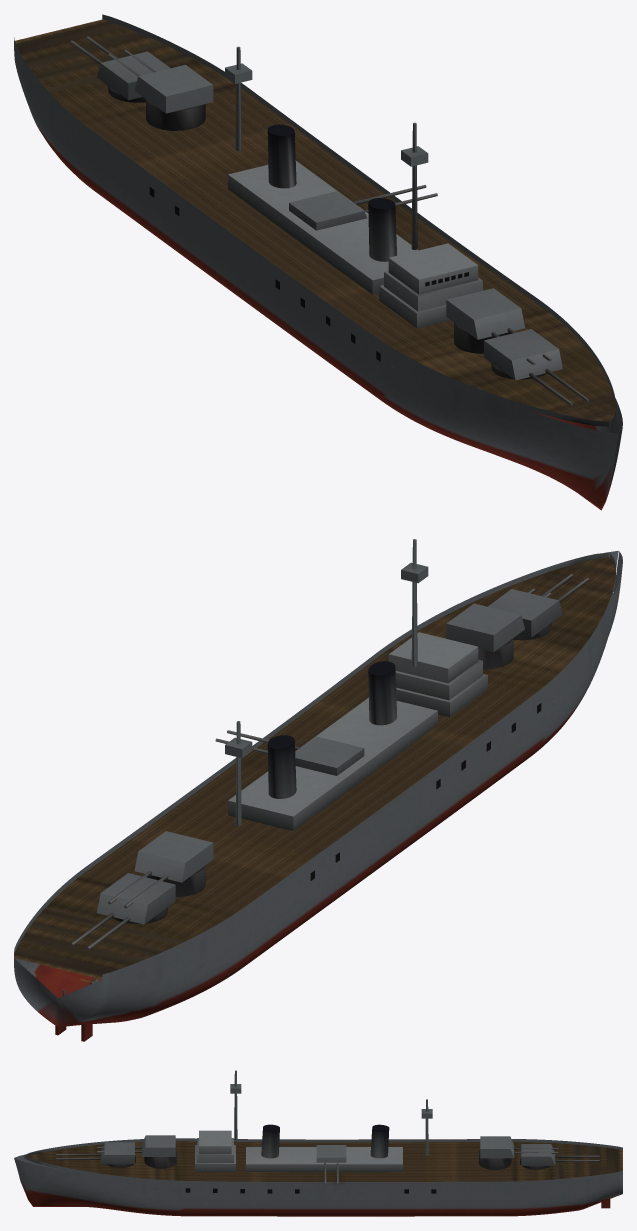
The model's file is model_built.glb.
3 renders of one model, top to bottom at view 1: azimuth 30°, elevation 25°; view 2: azimuth 150°, elevation 25°; view 3: azimuth 270°, elevation 25°, orthographic. The views are drawn at different scales.
Parts seen in each view (by area): view 1: main; view 2: main; view 3: main.
Part boxes in pixels (x1=…): main: x1=14, y1=14, x2=622, y2=510; main: x1=14, y1=539, x2=622, y2=1041; main: x1=14, y1=1070, x2=622, y2=1216.
Size of the model in its own units: 33.98 by 43.95 by 178.
Materials: 2 (2 with a texture image).
